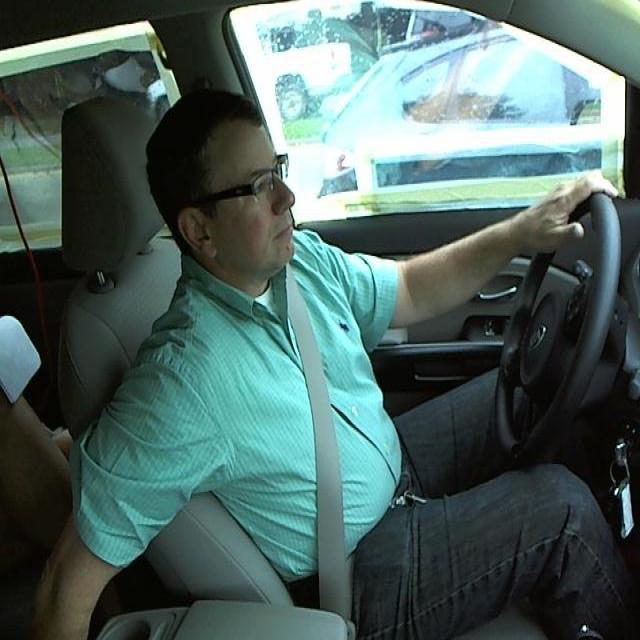seatbelt: (276, 298, 376, 610)
